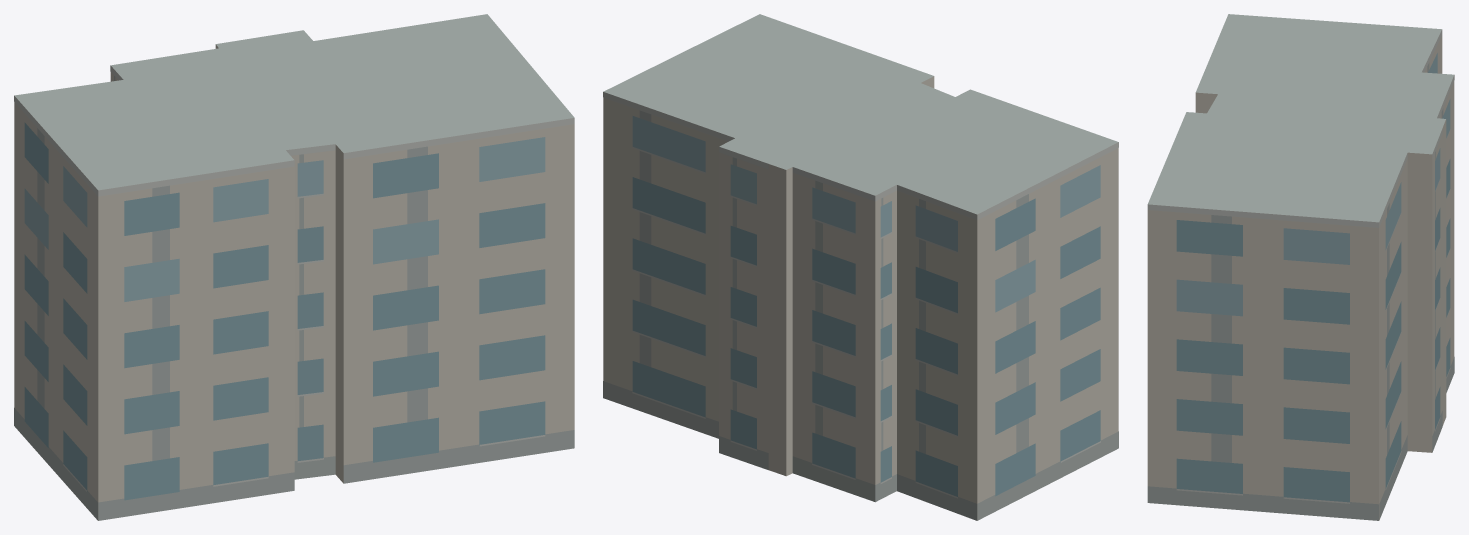
File: survey-upis-32704555.glb
3 renders of one model, left to right at view 1: azimuth 30°, elevation 25°; view 2: azimuth 150°, elevation 25°; view 3: azimuth 270°, elevation 25°, orthographic. The views are drawn at different scales.
Visible parts, largest first — view 1: survey-upis-32704555.tmp; view 2: survey-upis-32704555.tmp; view 3: survey-upis-32704555.tmp.
Part boxes in pixels (left/top/right/bottom): survey-upis-32704555.tmp: left=14, top=14, right=574, bottom=520; survey-upis-32704555.tmp: left=603, top=14, right=1118, bottom=520; survey-upis-32704555.tmp: left=1147, top=14, right=1454, bottom=520.
Bounding box in the file's own units: 19.47 × 13 × 12.12.
